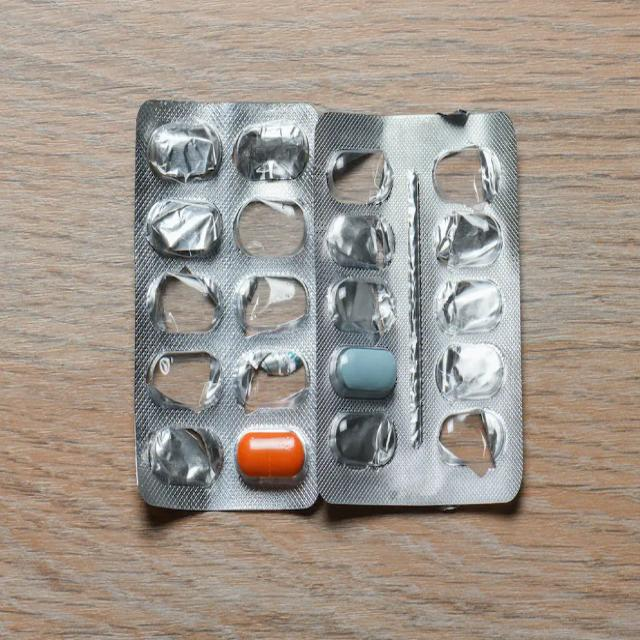Empty: (430, 405, 510, 484), (232, 192, 312, 270), (141, 420, 225, 494), (141, 342, 224, 416), (144, 116, 226, 190), (232, 114, 312, 189), (142, 194, 223, 266), (141, 270, 223, 340), (428, 207, 508, 277), (325, 410, 401, 482), (230, 346, 314, 411), (432, 336, 514, 402), (424, 144, 508, 207), (235, 272, 312, 340), (324, 274, 406, 336), (322, 212, 402, 274), (430, 277, 514, 334), (319, 148, 398, 206)
Pill: (230, 418, 310, 496), (324, 339, 409, 404)
